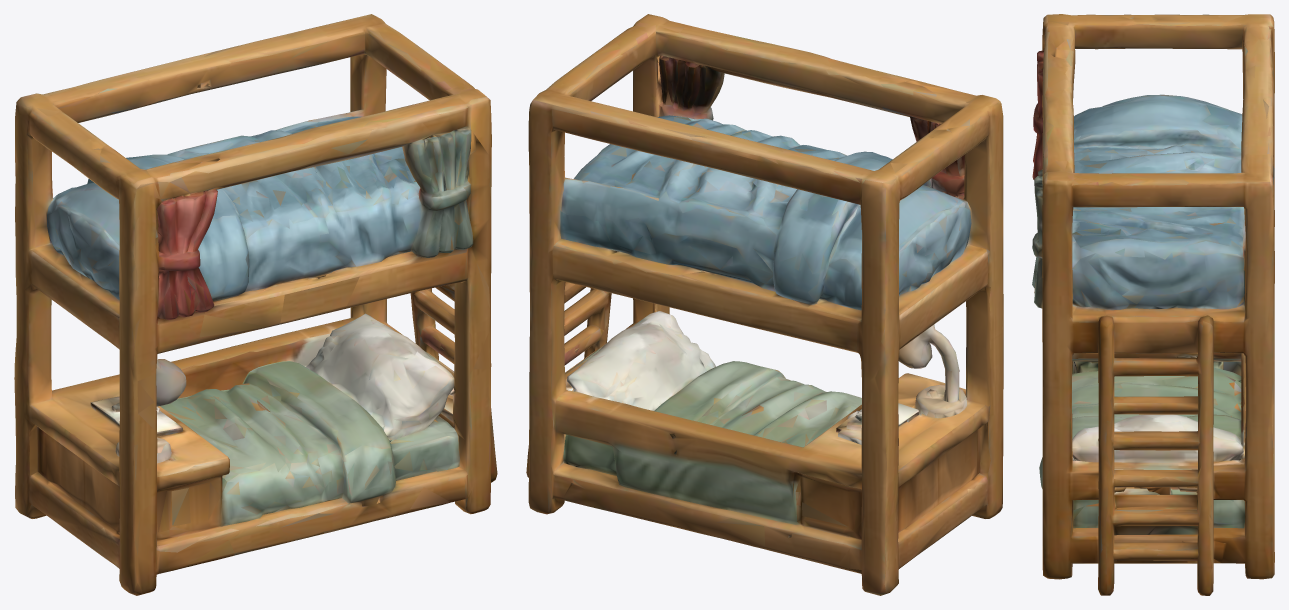
Rendered from sc-night-bunk.glb.
3 views of the same model, side by side, from view 1: azimuth 30°, elevation 25°; view 2: azimuth 150°, elevation 25°; view 3: azimuth 270°, elevation 25° (orthographic). The views are drawn at different scales.
Parts seen in each view (by area): view 1: geometry_0; view 2: geometry_0; view 3: geometry_0.
Part boxes in pixels (x1,y1,x2,y2): geometry_0: [14, 14, 497, 595]; geometry_0: [526, 14, 1003, 595]; geometry_0: [1032, 14, 1274, 595].
Bounding box in the file's own units: 1 × 1 × 0.5493.
Materials: 1 (1 with a texture image).
